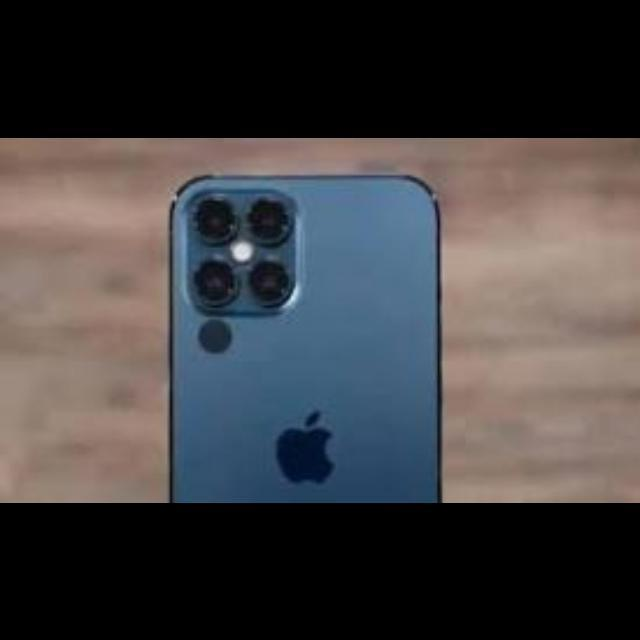phone: (135, 149, 461, 506)
